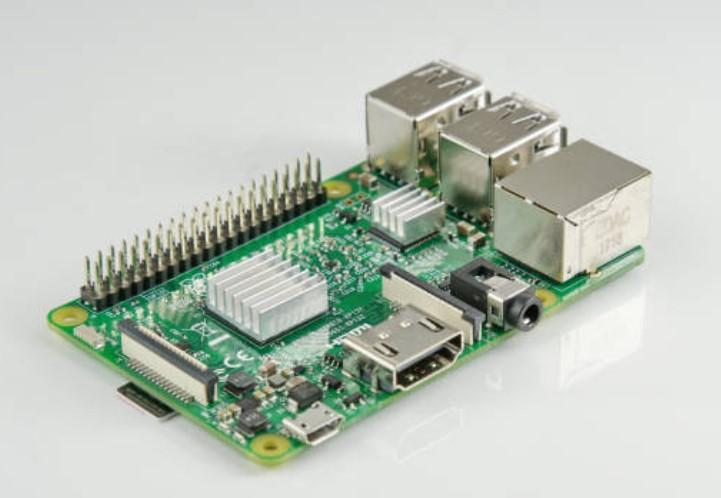Printed Circuit Board PCB: (47, 60, 653, 469)
